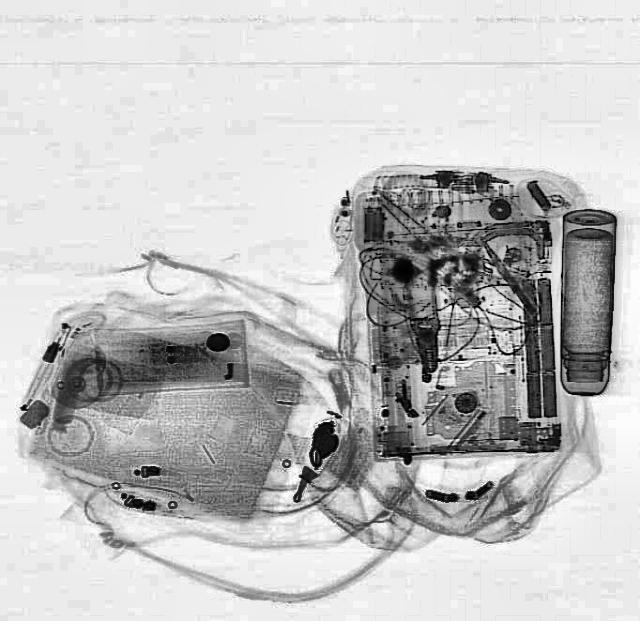Pliers: (398, 255, 444, 373)
